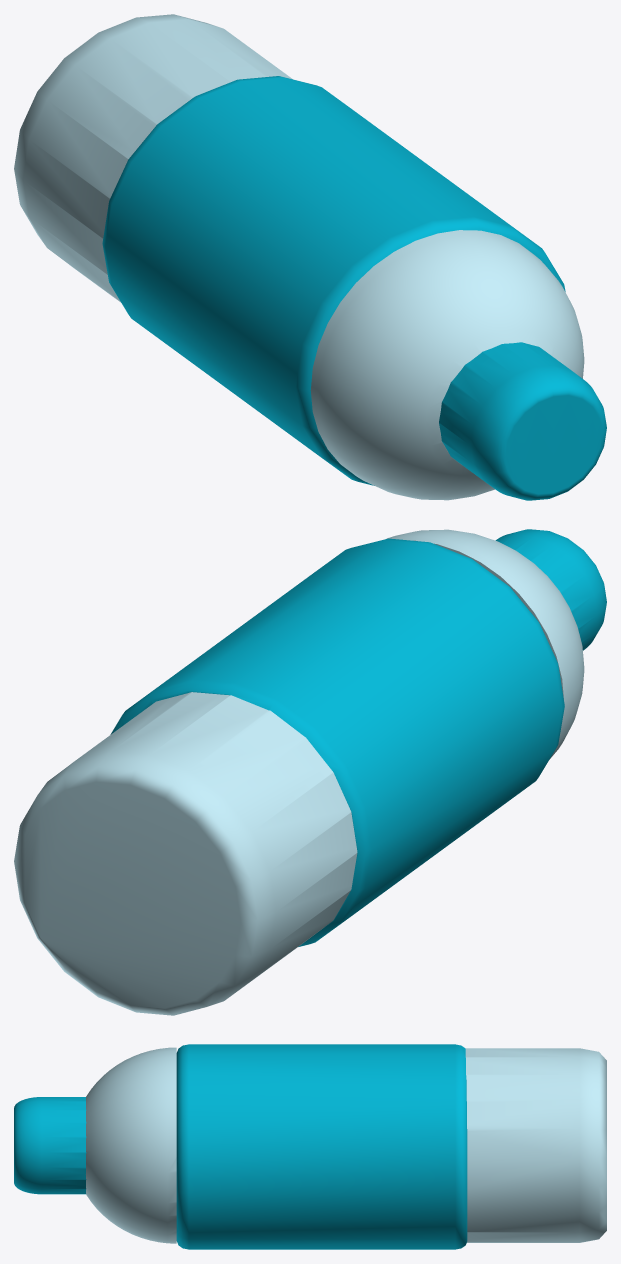
The model's file is water.glb.
3 renders of one model, top to bottom at view 1: azimuth 30°, elevation 25°; view 2: azimuth 150°, elevation 25°; view 3: azimuth 270°, elevation 25°, orthographic. The views are drawn at different scales.
Parts seen in each view (by area): view 1: Object_2, Object_3; view 2: Object_3, Object_2; view 3: Object_2, Object_3.
Part boxes in pixels (x1,y1,x2,y2): Object_2: [102, 76, 606, 500]; Object_3: [14, 14, 584, 500]; Object_3: [14, 529, 584, 1015]; Object_2: [110, 529, 606, 946]; Object_2: [14, 1044, 467, 1249]; Object_3: [86, 1047, 606, 1243].
Size of the model in its own units: 42 by 39 by 113.
